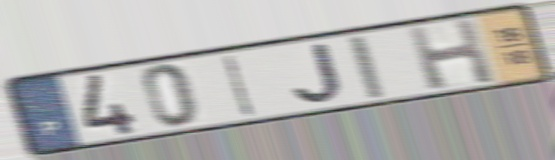0: (140, 61, 206, 130)
4: (82, 72, 139, 138)
H: (403, 15, 500, 93)
I: (343, 33, 388, 102), (221, 52, 259, 120)
J: (291, 41, 345, 106)
